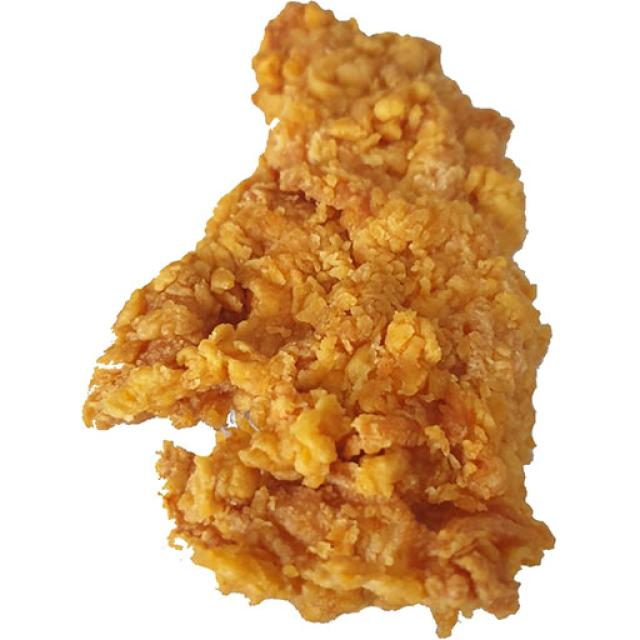Frango: (174, 62, 476, 584)
